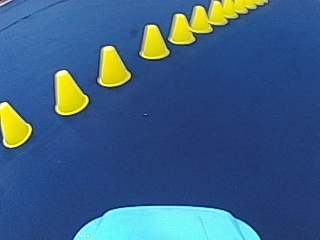cone: (52, 68, 88, 114), (0, 101, 32, 146), (96, 44, 130, 86), (138, 22, 169, 59), (167, 12, 194, 45), (188, 5, 211, 32), (206, 0, 226, 24), (222, 0, 237, 18), (234, 0, 246, 14)
